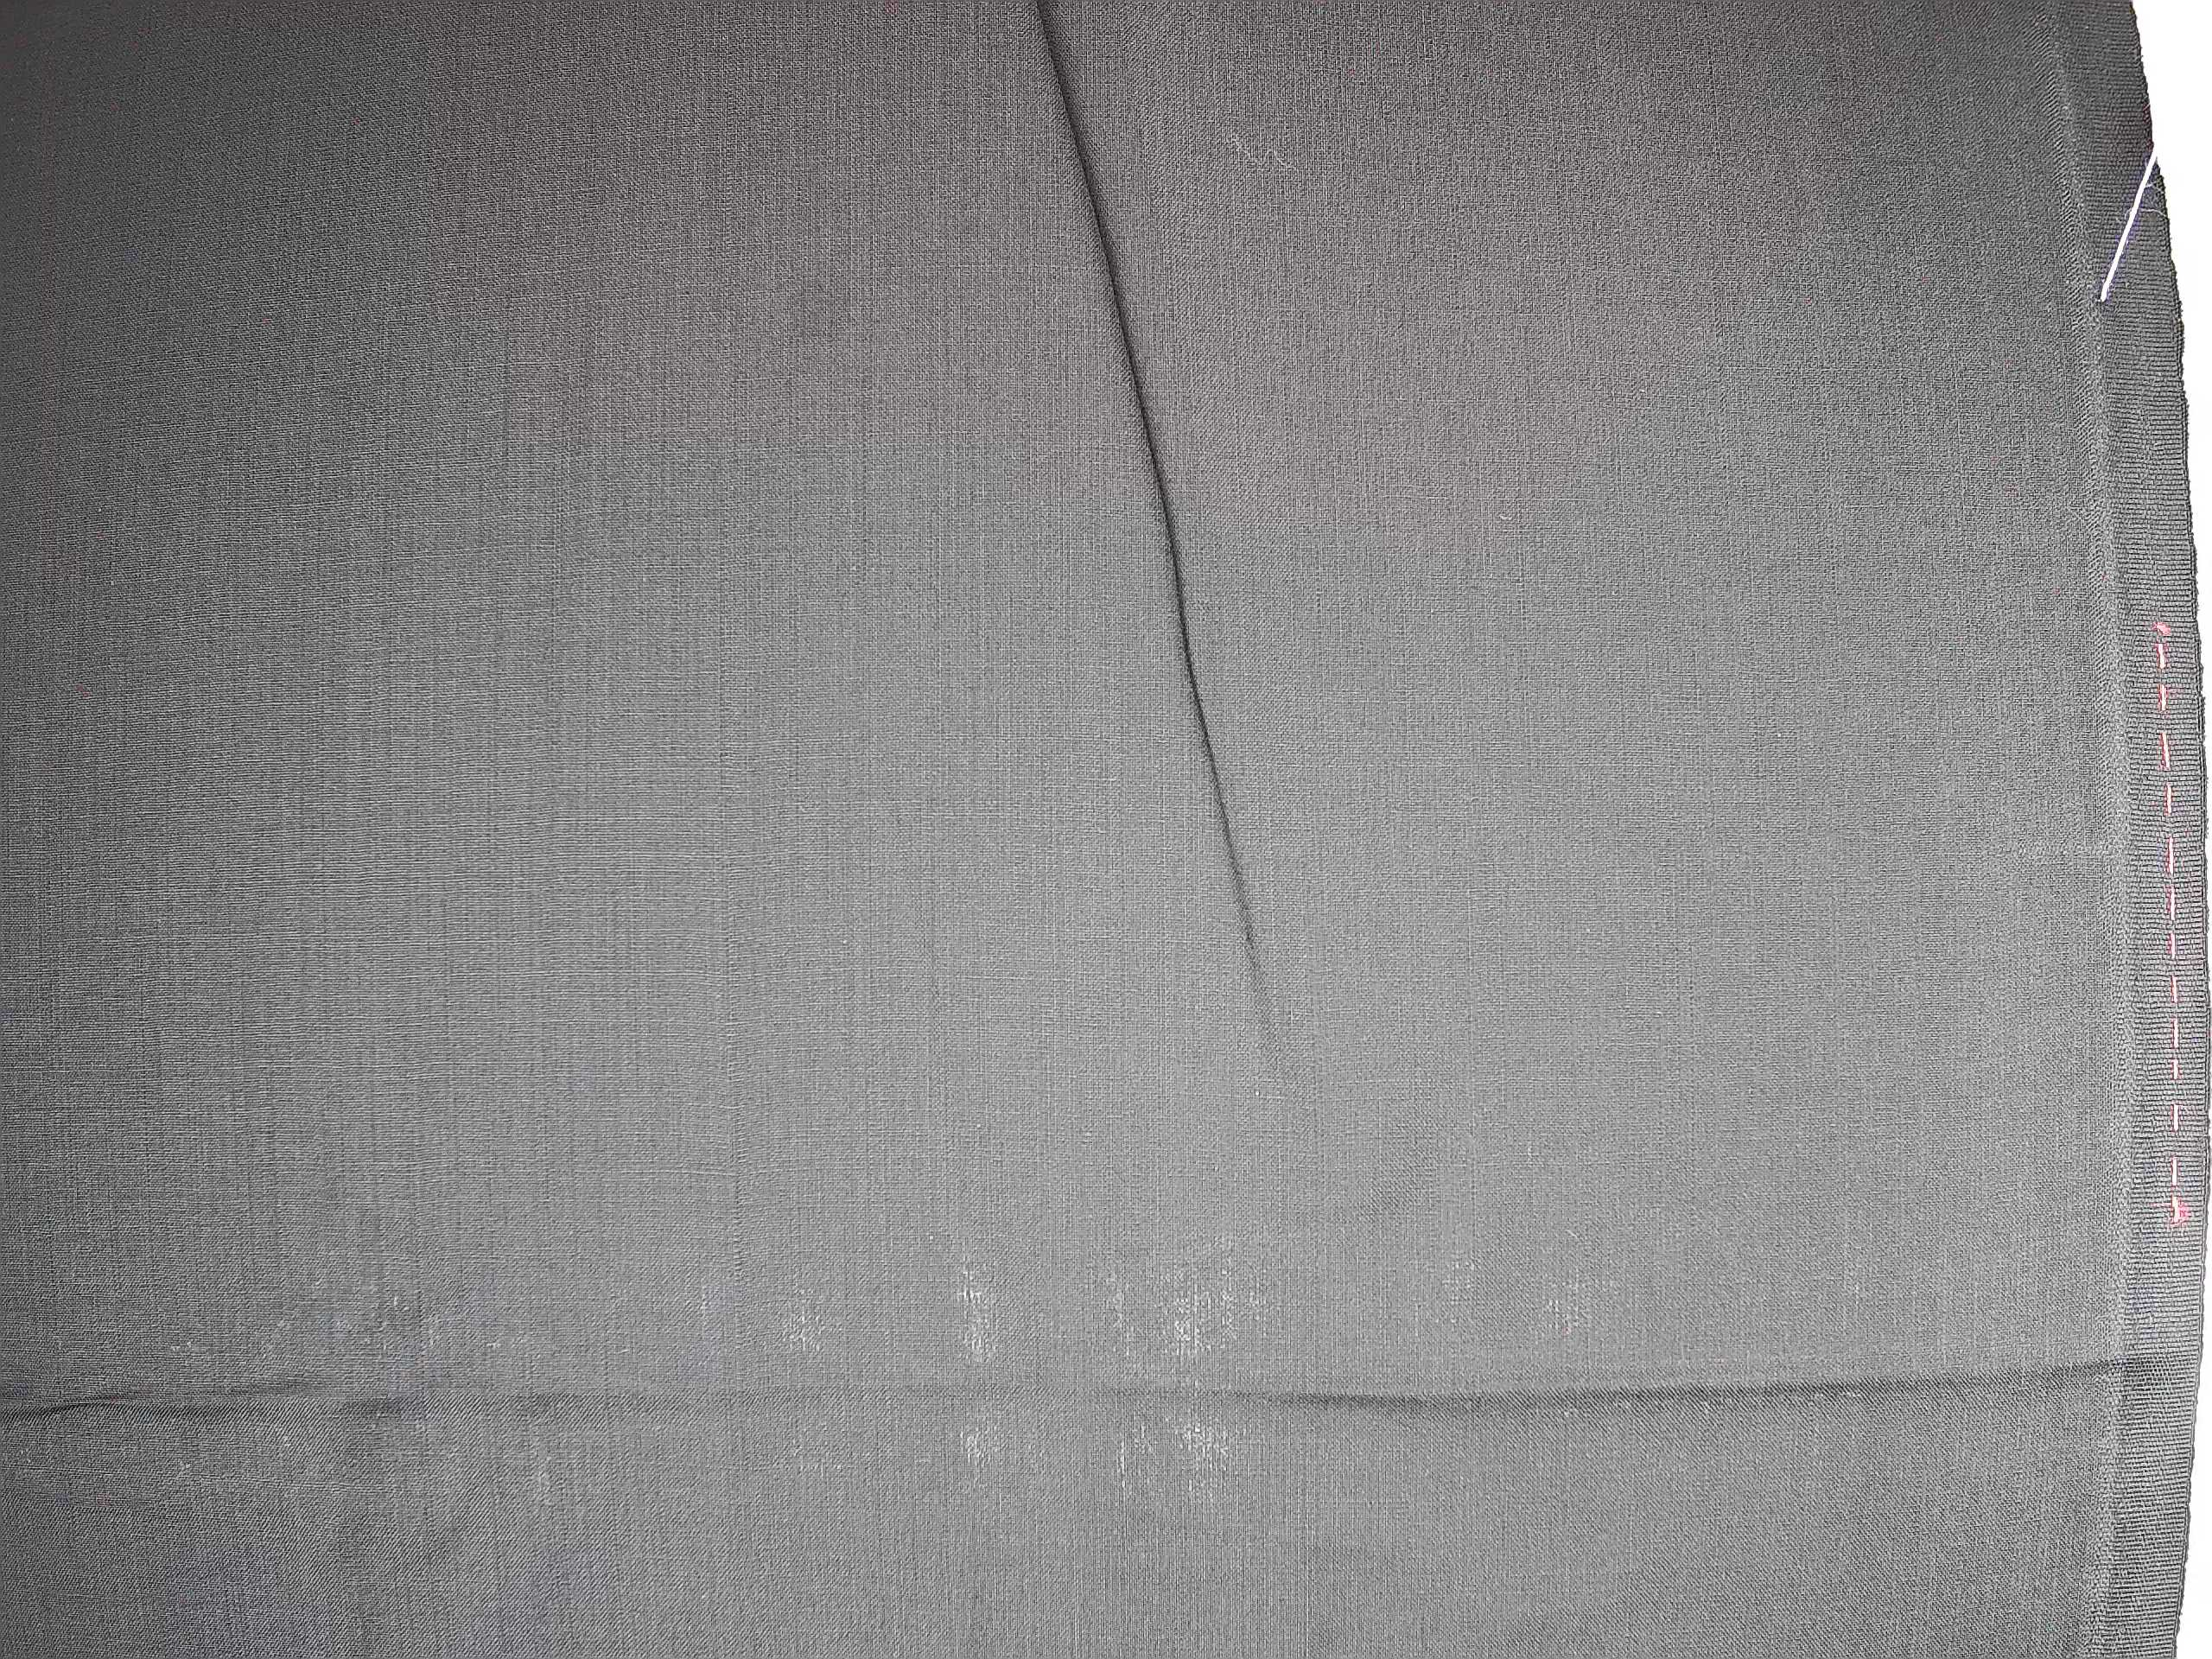others: (1982, 824, 2141, 873)
stains: (1104, 1244, 1284, 1521), (939, 1253, 1019, 1499), (772, 1290, 850, 1474)
